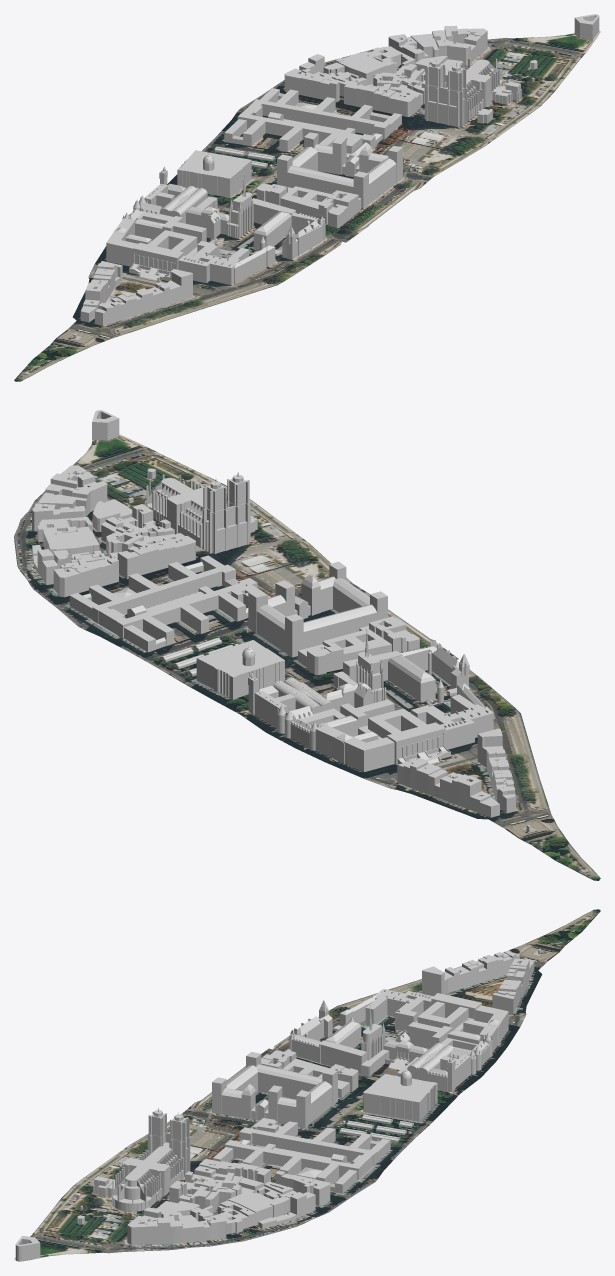
The model's file is paris.glb.
The picture shows the model from 3 angles, top to bottom: view 1: azimuth 90°, elevation 25°; view 2: azimuth 150°, elevation 25°; view 3: azimuth 270°, elevation 25°; orthographic projection. The views are drawn at different scales.
Parts seen in each view (by area): view 1: map_35.osm_buildings[collider], Terrain[collider]; view 2: map_35.osm_buildings[collider], Terrain[collider]; view 3: map_35.osm_buildings[collider], Terrain[collider].
Boxes of the visible parts, x1,y1,x2,y2 form: map_35.osm_buildings[collider]: (73,14,599,338); Terrain[collider]: (14,30,600,381); map_35.osm_buildings[collider]: (32,410,530,830); Terrain[collider]: (14,434,600,880); map_35.osm_buildings[collider]: (15,949,541,1261); Terrain[collider]: (14,909,600,1261).
Size of the model in its own units: 980 by 78 by 690.
Materials: 1 (1 with a texture image).
